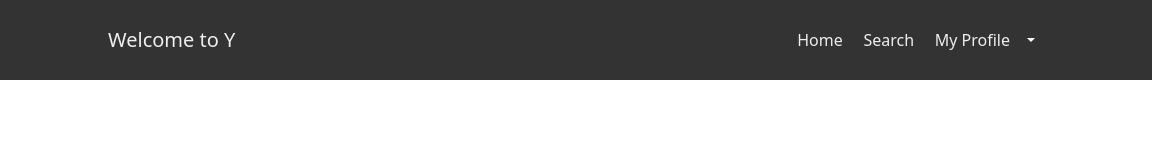
Test case: NavBar Component › should display user profile and logout button when logged in
This screenshot has width=1152, height=160.
Expected: the link "My Profile" is shown, [935,29,1010,51]
Expand the dropdown to reveal the "Sign Out" option
Click the button with test id "profile-dropdown-toggle" at (1031, 40), box [1018,22,1044,58]
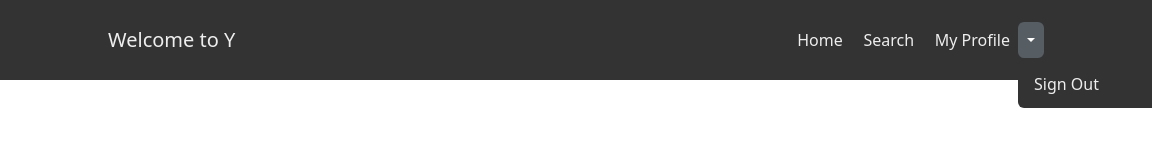
Now the button "Sign Out" is shown, box [1034,73,1099,95]
